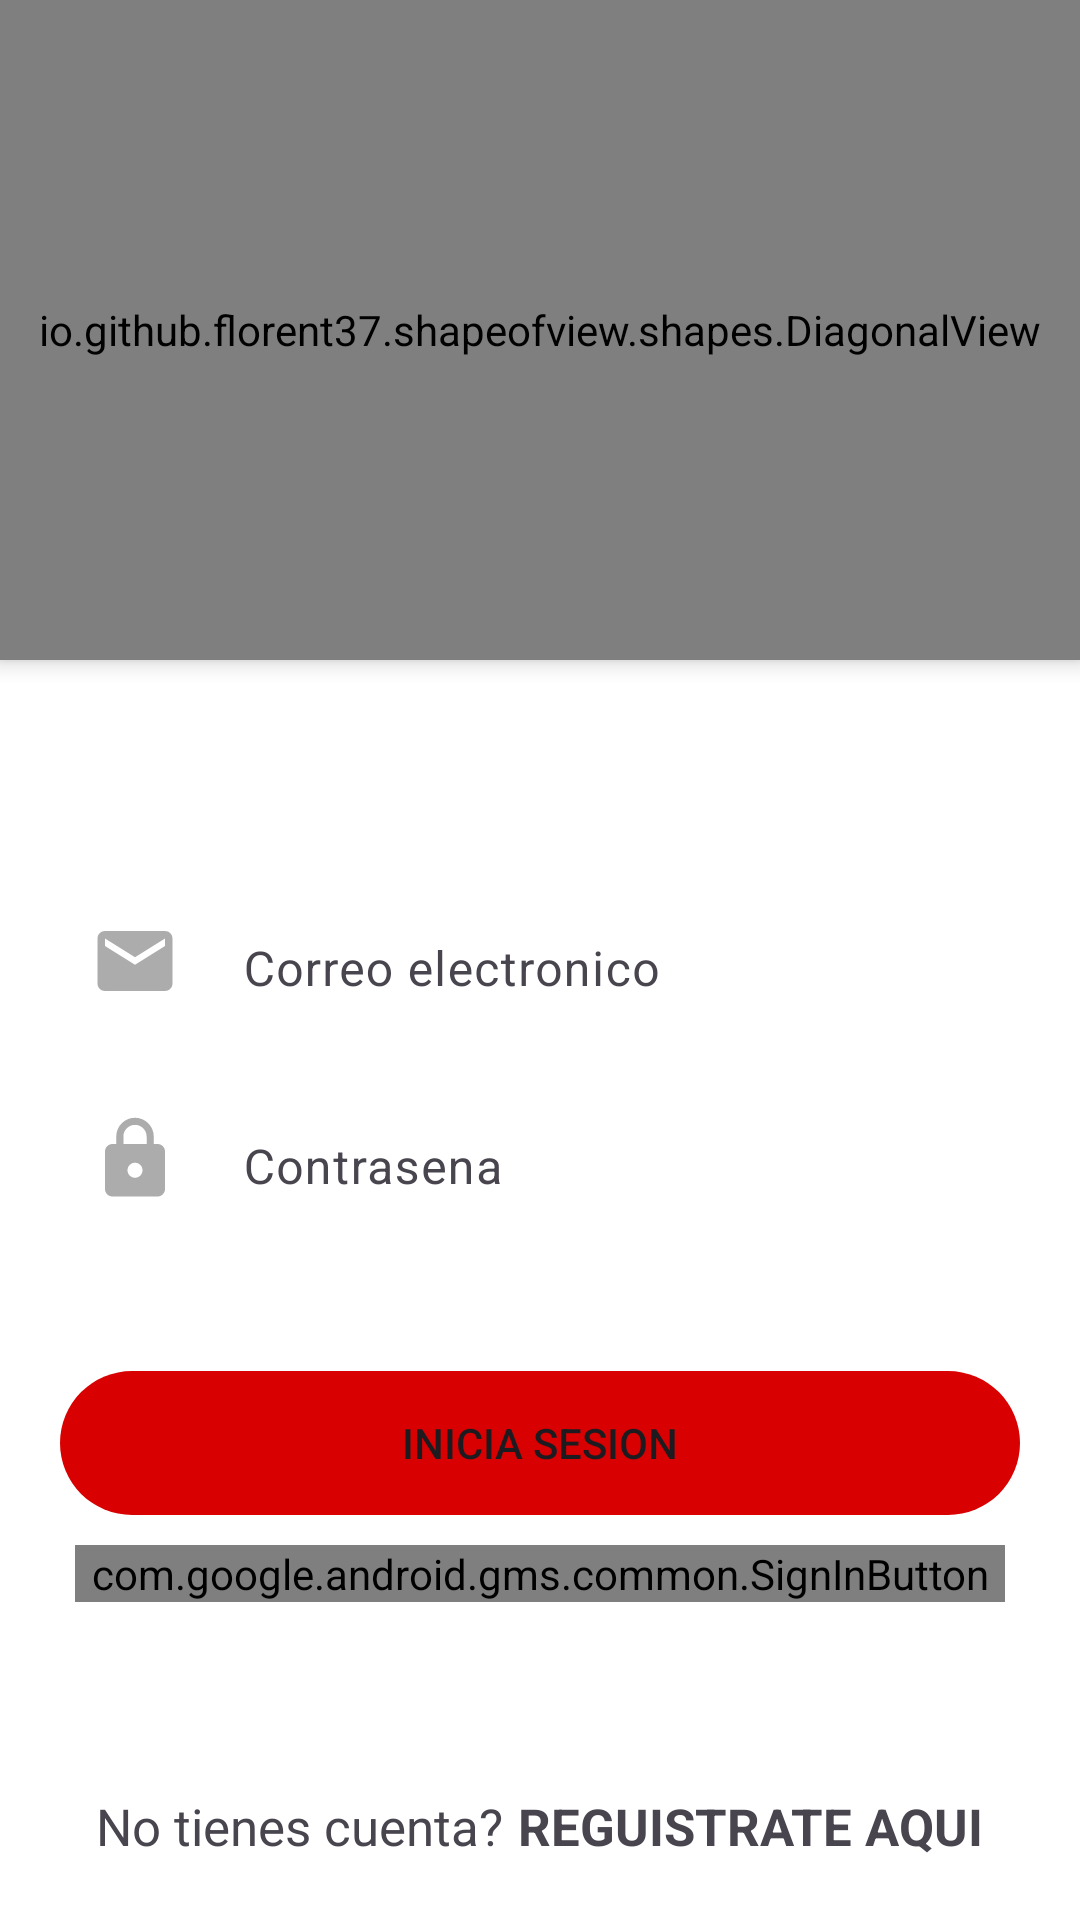

Where to tap for icons on this 1080px x 1920px app screen, as (x,y):
email: (135,961)
pasword: (135,1157)
